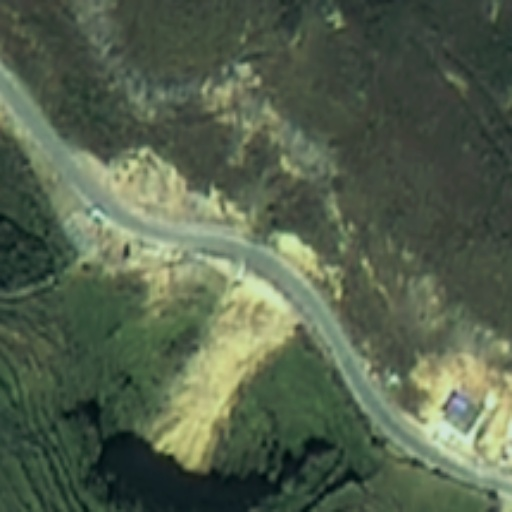landslide: (147, 275, 296, 473), (103, 144, 249, 230)
